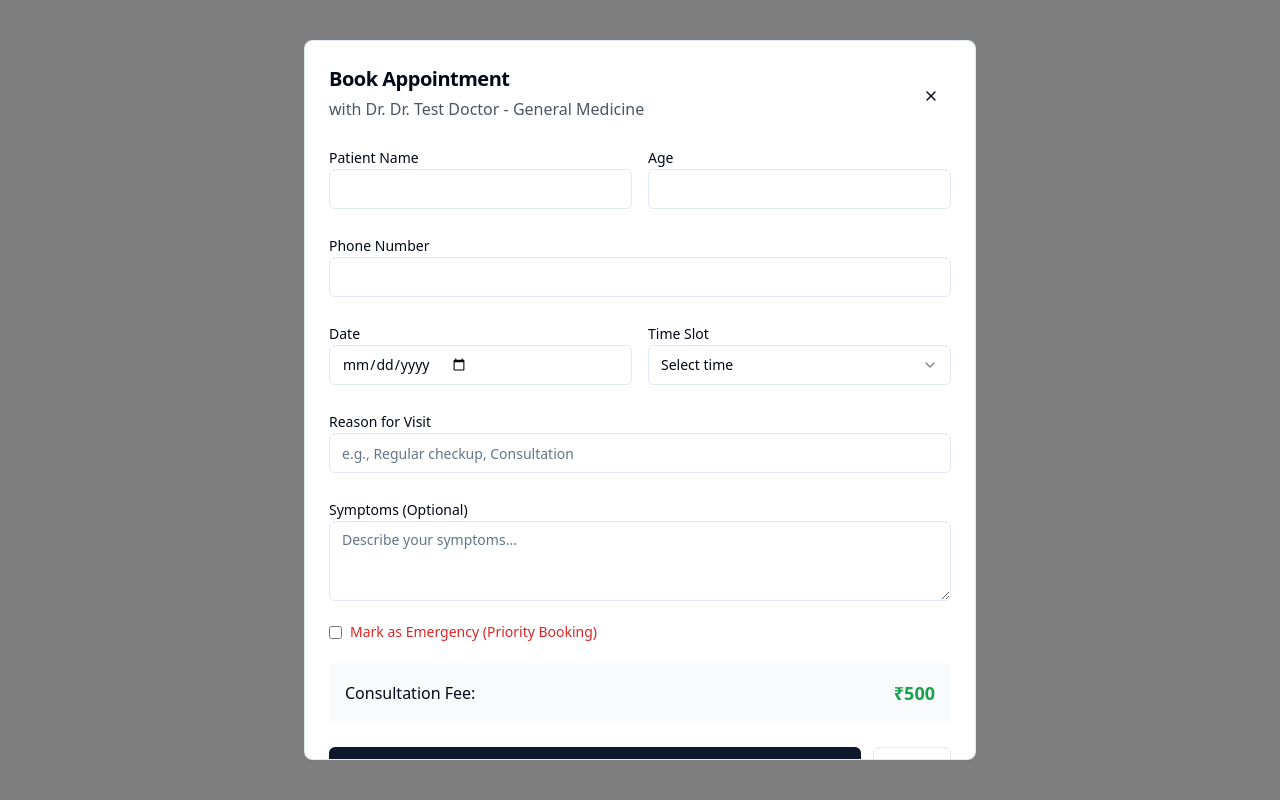
BookingForm Integration › handles emergency appointment selection
Note: Check emergency checkbox
Click the checkbox labelled "Mark as Emergency (Priority Booking)": (336, 632) [329, 626, 342, 638]
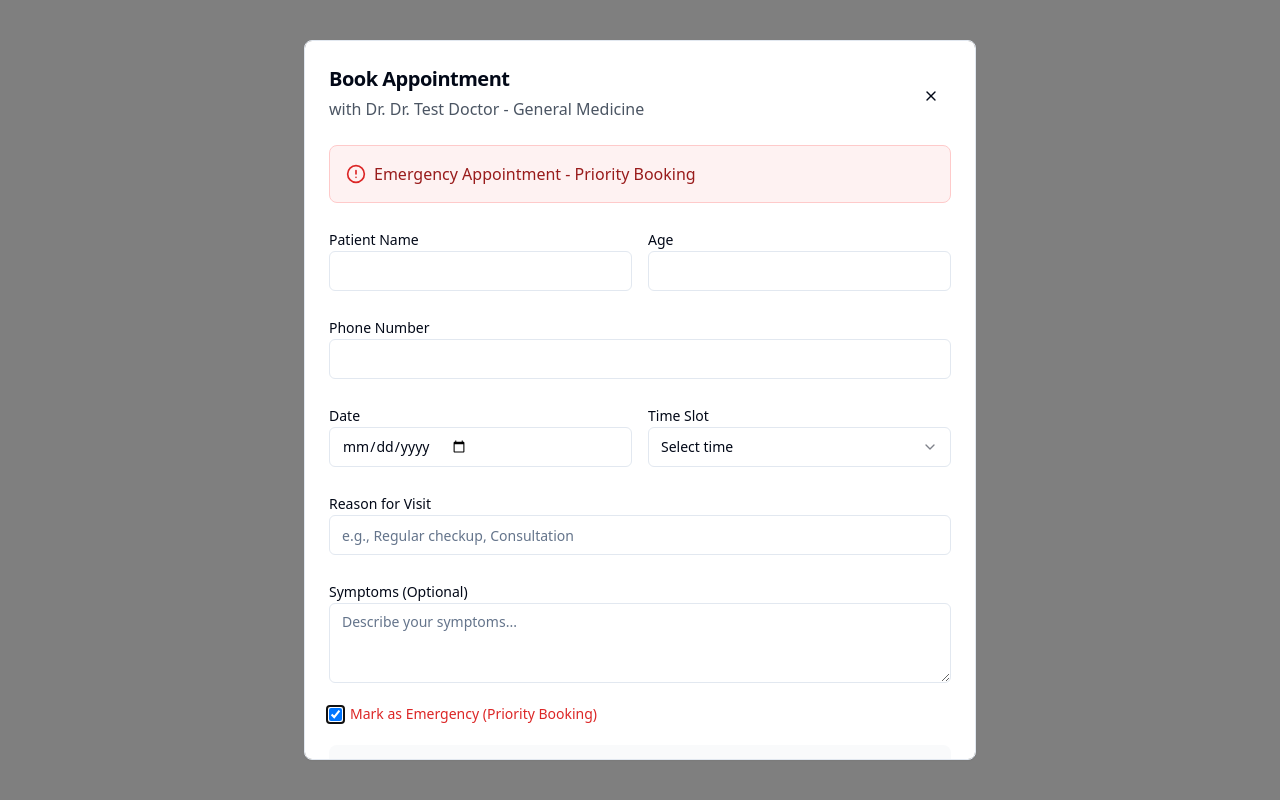
Expected: the checkbox labelled "Mark as Emergency (Priority Booking)" is checked, [329, 708, 342, 720]
Expected: the text "Emergency Appointment - Priority Booking" is shown, [374, 162, 696, 186]
